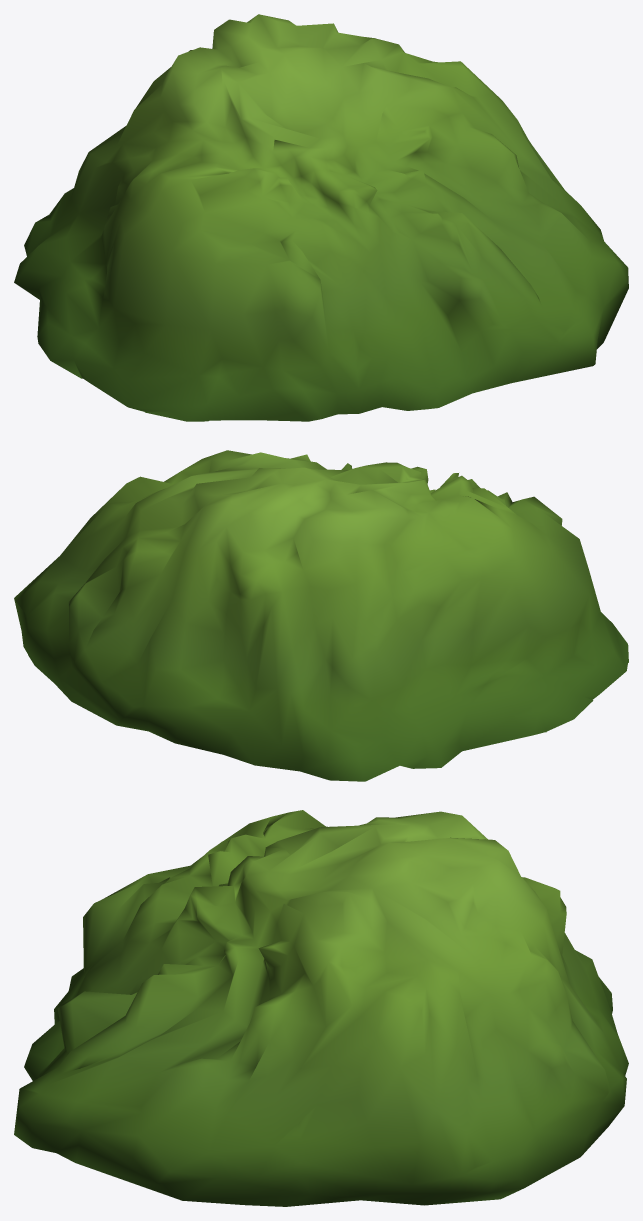
The model's file is Mountain_4.fbx.
3 renders of one model, top to bottom at view 1: azimuth 30°, elevation 25°; view 2: azimuth 150°, elevation 25°; view 3: azimuth 270°, elevation 25°, orthographic. The views are drawn at different scales.
Parts seen in each view (by area): view 1: Mountain_4; view 2: Mountain_4; view 3: Mountain_4.
Part boxes in pixels (x1=…): Mountain_4: x1=14, y1=14, x2=628, y2=421; Mountain_4: x1=14, y1=450, x2=628, y2=781; Mountain_4: x1=14, y1=810, x2=628, y2=1206.
Size of the model in its own units: 1585 by 639 by 1494.
